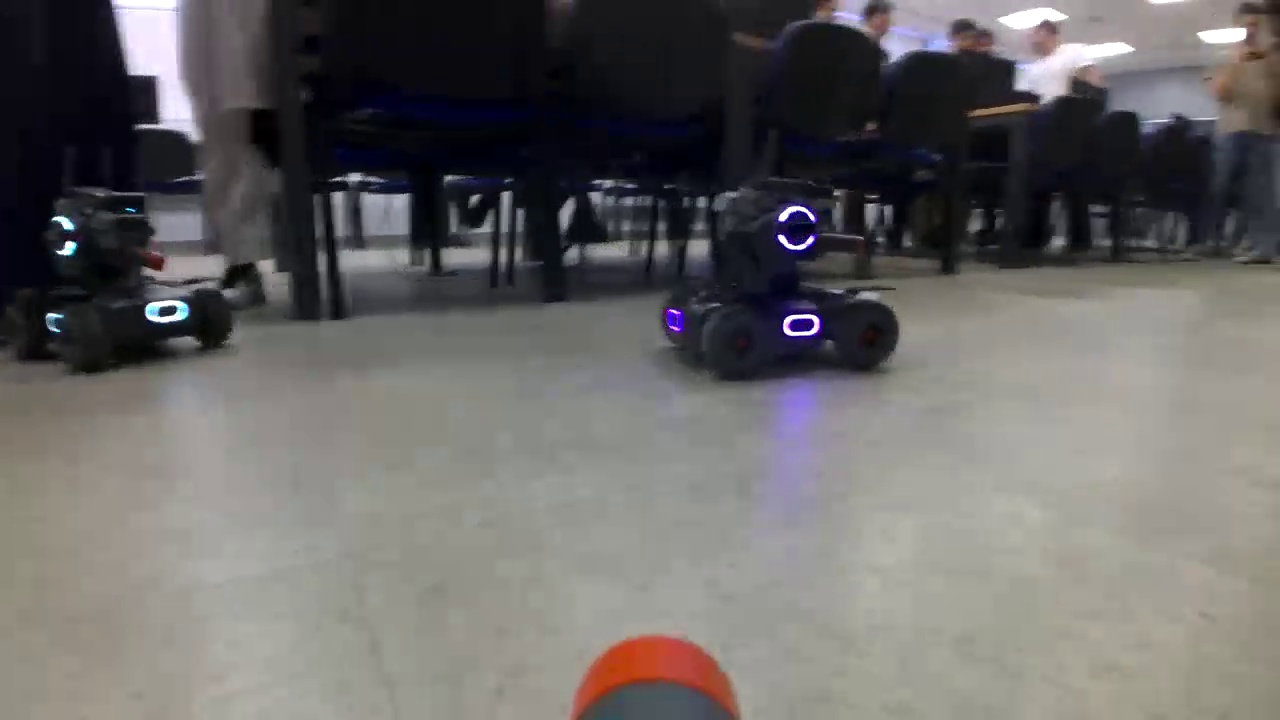robot: (659, 175, 900, 384), (12, 185, 234, 375)
